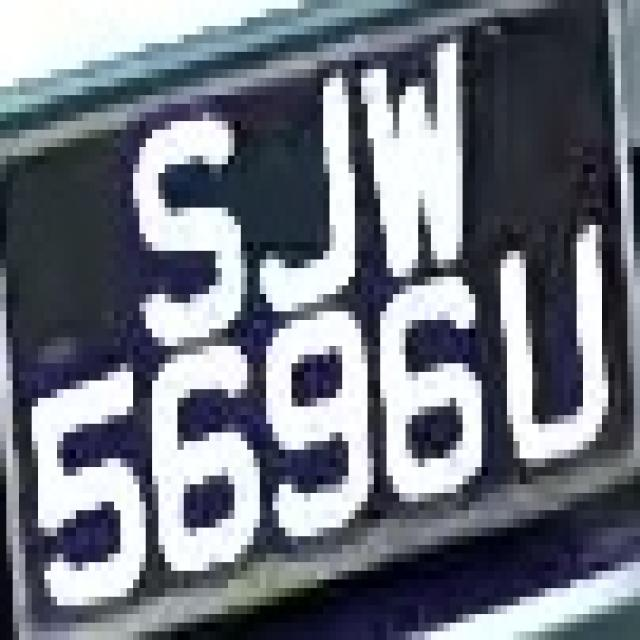5: (19, 354, 158, 606)
6: (367, 251, 507, 545), (127, 320, 285, 579)
9: (247, 312, 380, 562)
J: (235, 69, 368, 320)
S: (121, 87, 266, 389)
U: (494, 208, 621, 493)
W: (349, 35, 494, 268)
